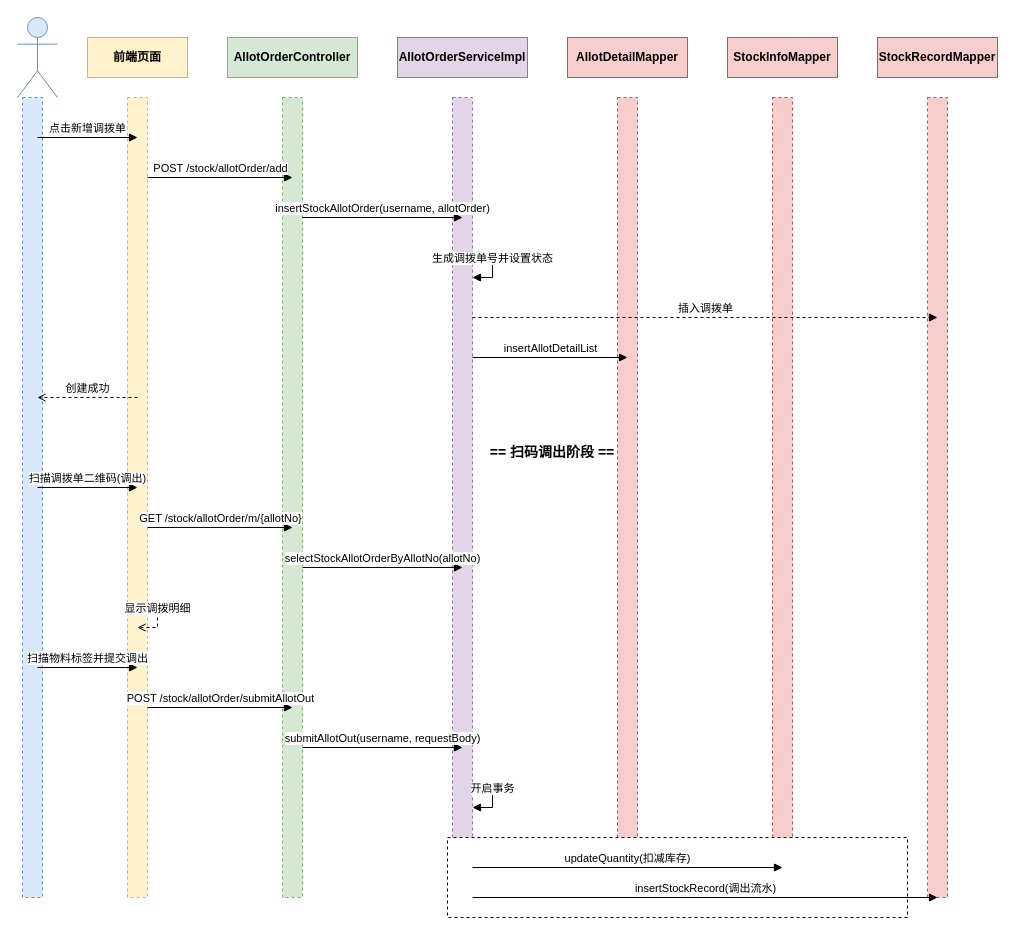
This 1015x935 diagram has some shape labels left out. The centre of each missing label's shape, as x and y in pixels:
"loop (处理每个标签)" goes at (x=677, y=877).
"仓管员" goes at (x=37, y=57).
